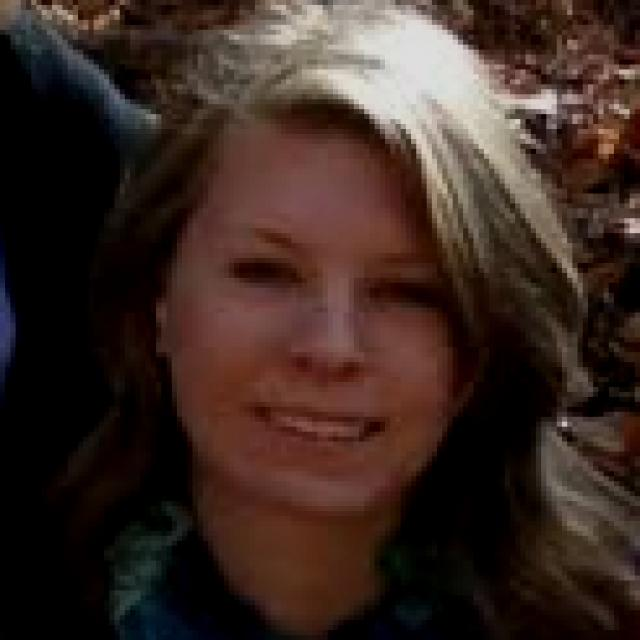normal_face: (146, 45, 518, 532)
